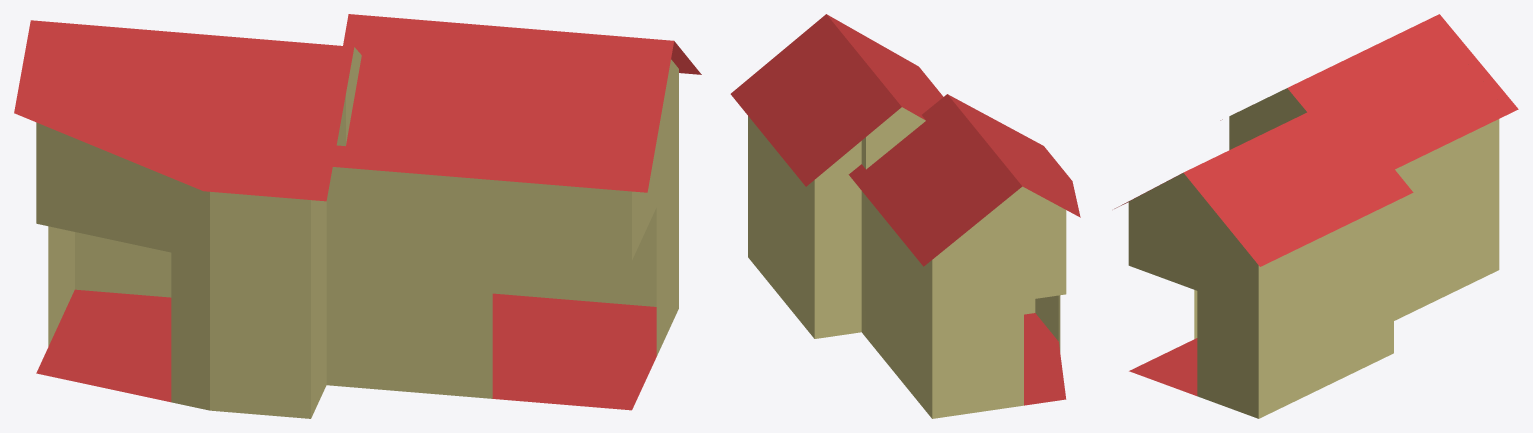
3 views of the same model, side by side, from view 1: azimuth 30°, elevation 25°; view 2: azimuth 150°, elevation 25°; view 3: azimuth 270°, elevation 25° (orthographic). The views are drawn at different scales.
Bounding box in the file's own units: 26.13 × 22.17 × 13.52.
